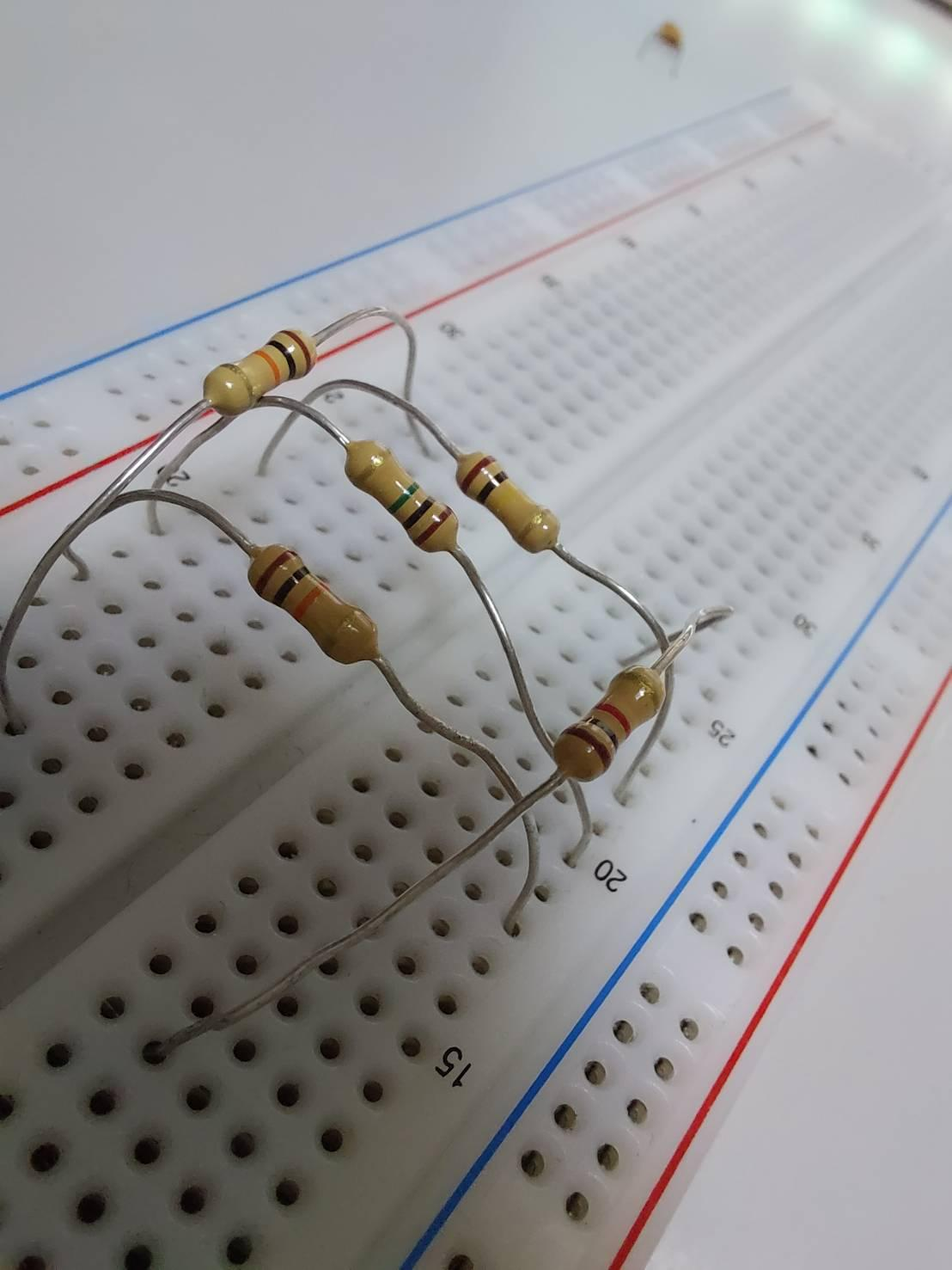resistor: (345, 435, 462, 561), (244, 549, 373, 659), (553, 666, 660, 786), (449, 444, 560, 552), (201, 316, 326, 408)
